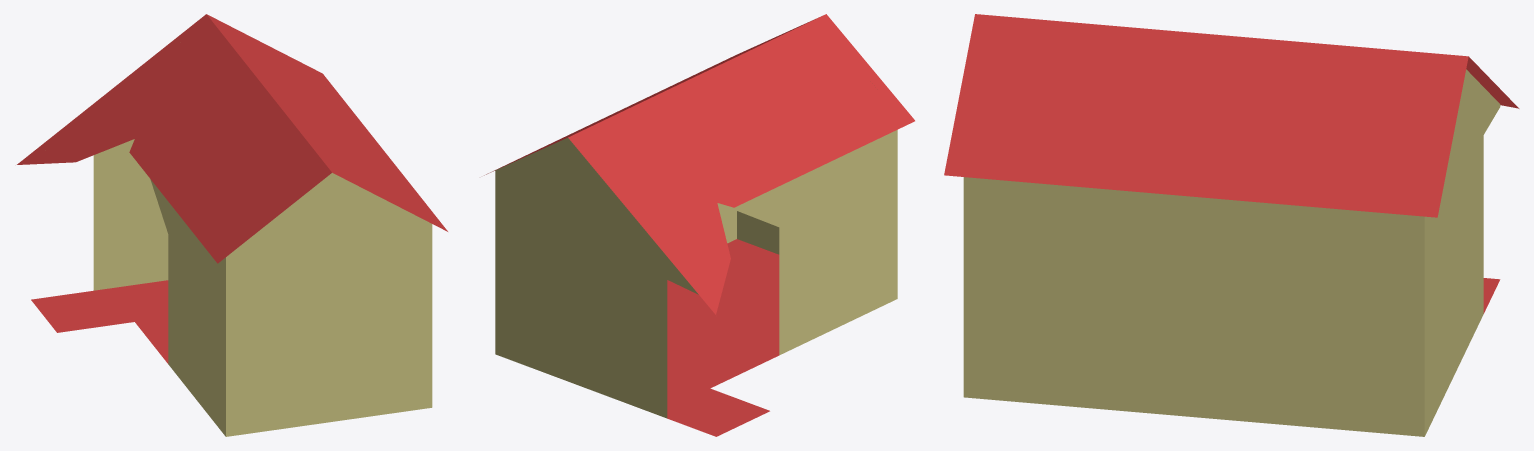
The picture shows the model from 3 angles, left to right: view 1: azimuth 30°, elevation 25°; view 2: azimuth 150°, elevation 25°; view 3: azimuth 270°, elevation 25°; orthographic projection. The views are drawn at different scales.
Bounding box in the file's own units: 18.78 × 26.15 × 16.24.
